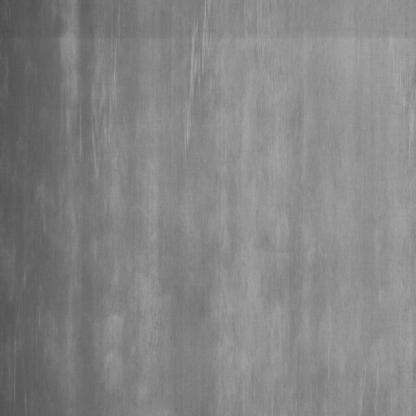silk_spot: (76, 16, 126, 161), (181, 7, 224, 154)
